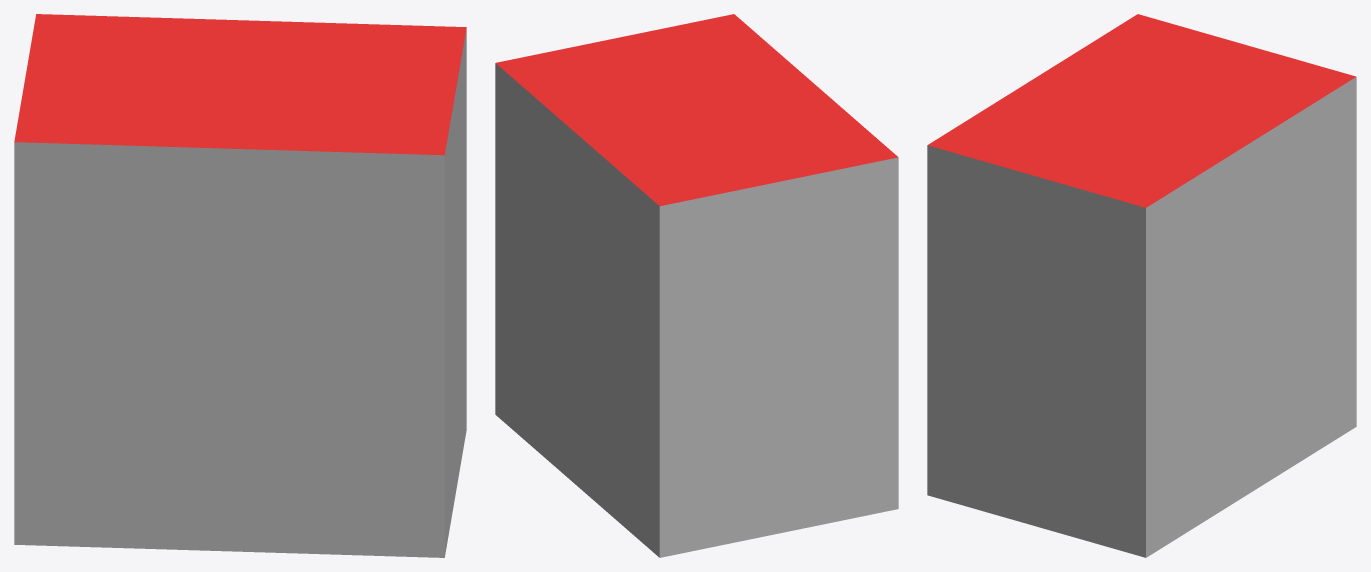
The model's file is ID_6b6e77fd-8540-46d4-a309-e417f5464ebf.dae.
The picture shows the model from 3 angles, left to right: view 1: azimuth 30°, elevation 25°; view 2: azimuth 150°, elevation 25°; view 3: azimuth 270°, elevation 25°; orthographic projection. The views are drawn at different scales.
Bounding box in the file's own units: 22.57 × 21.12 × 19.
